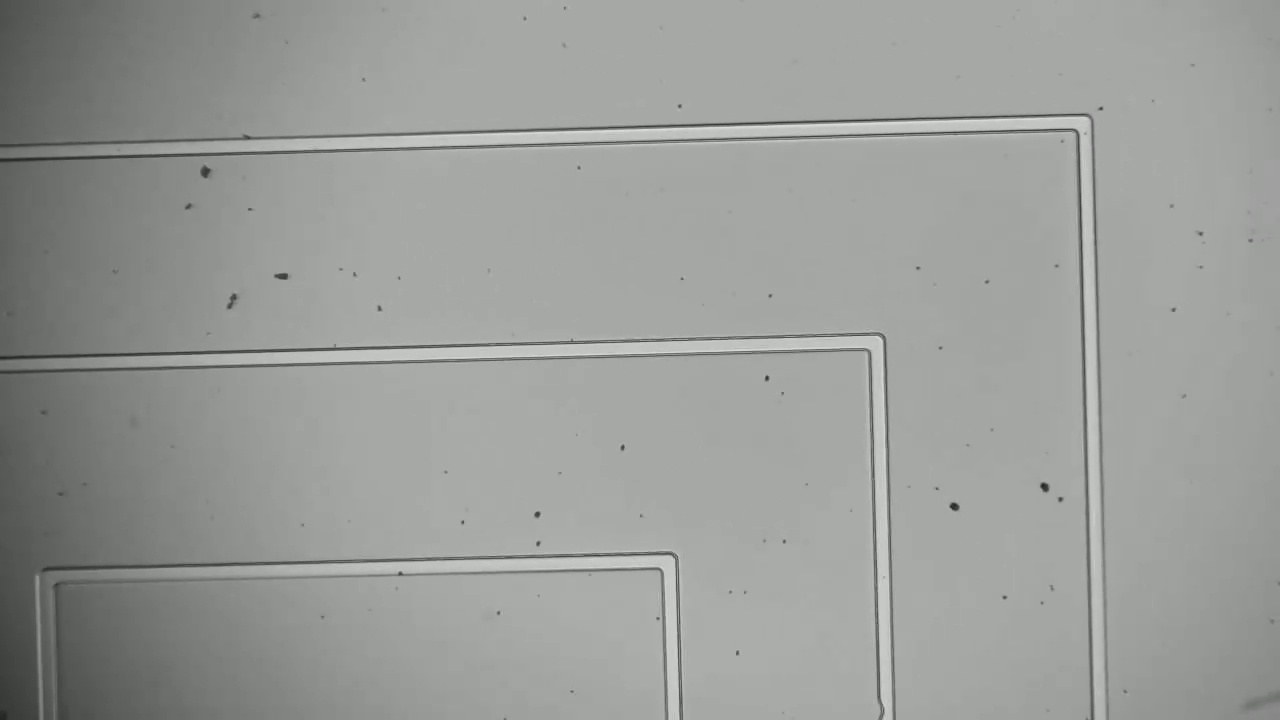edge_bite: (868, 695, 910, 719)
